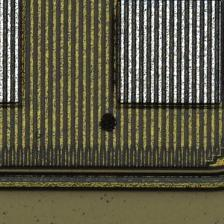PARTICLE: (95, 110, 123, 138)
